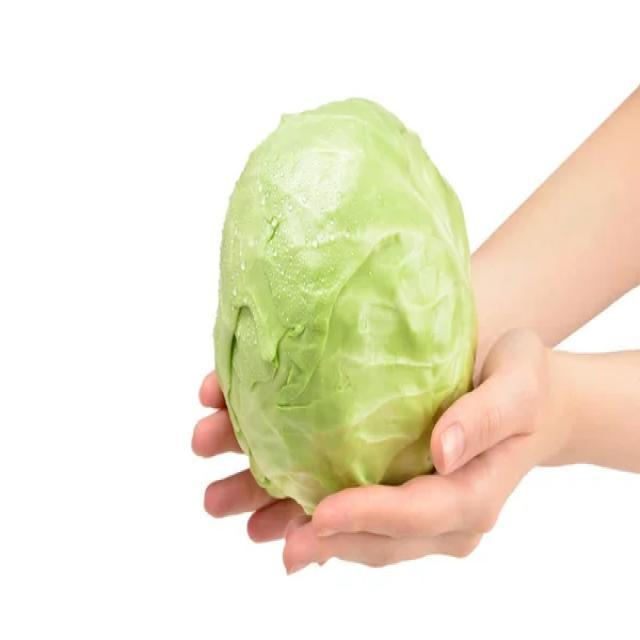cabbage: (212, 93, 480, 525)
